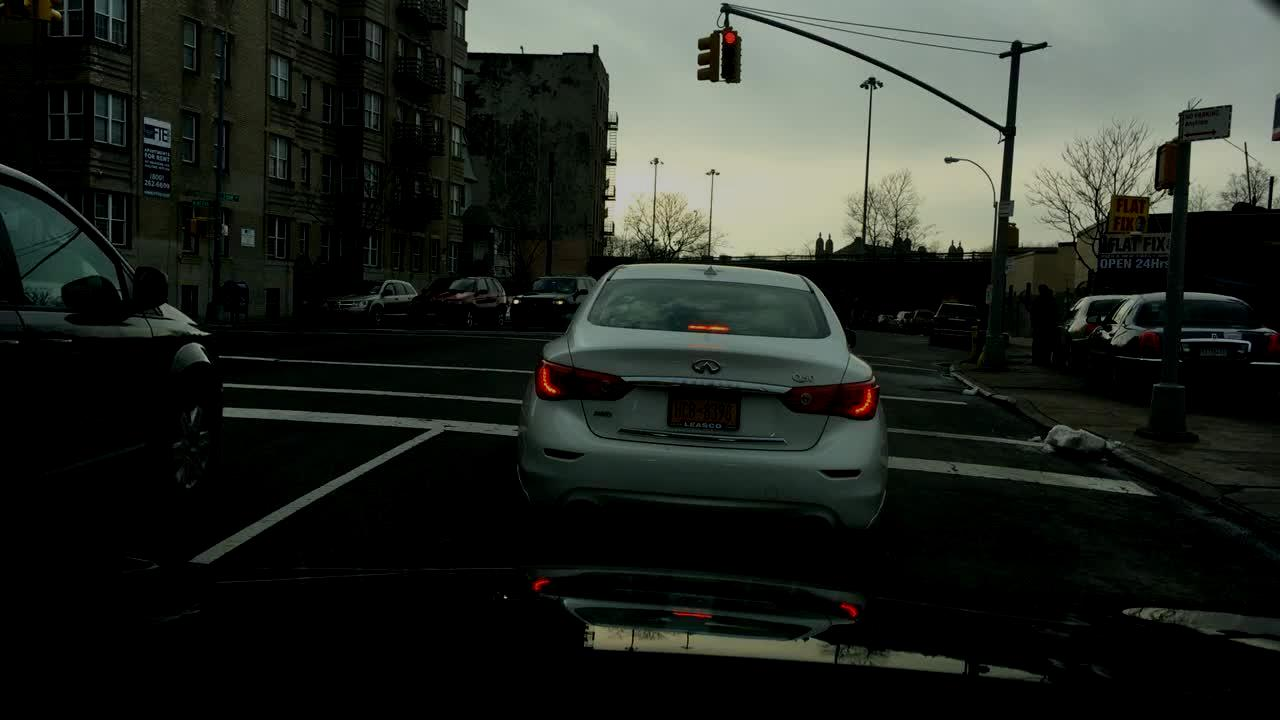Infiniti: (677, 352, 744, 382)
